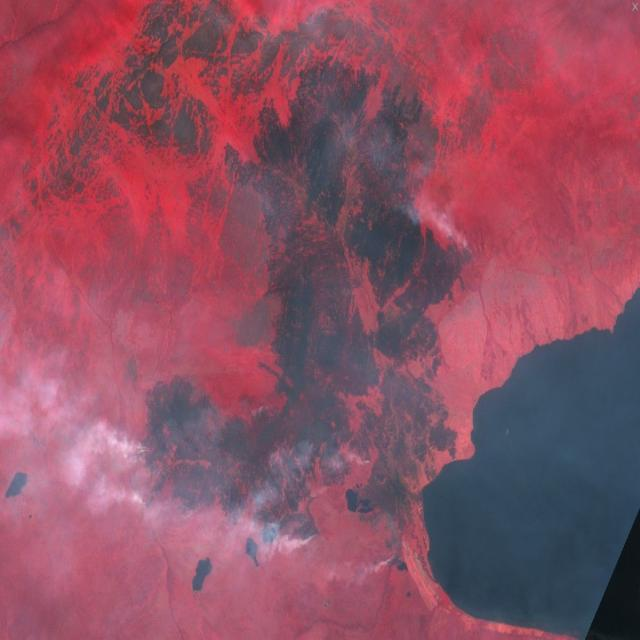fire: (125, 432, 412, 570), (433, 220, 480, 272)
